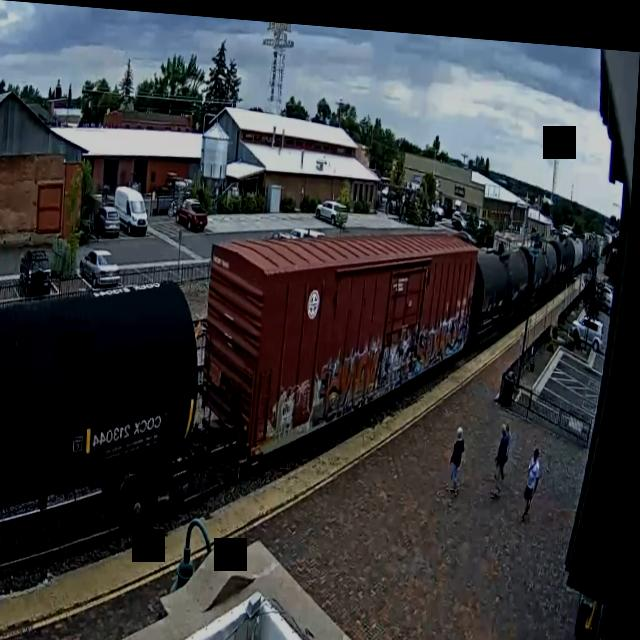boxcar: (196, 199, 486, 481)
tank: (0, 249, 216, 574)
